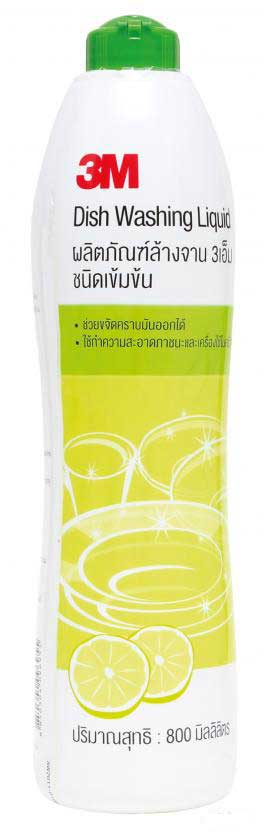Cleaning_solution: (23, 9, 244, 824)
